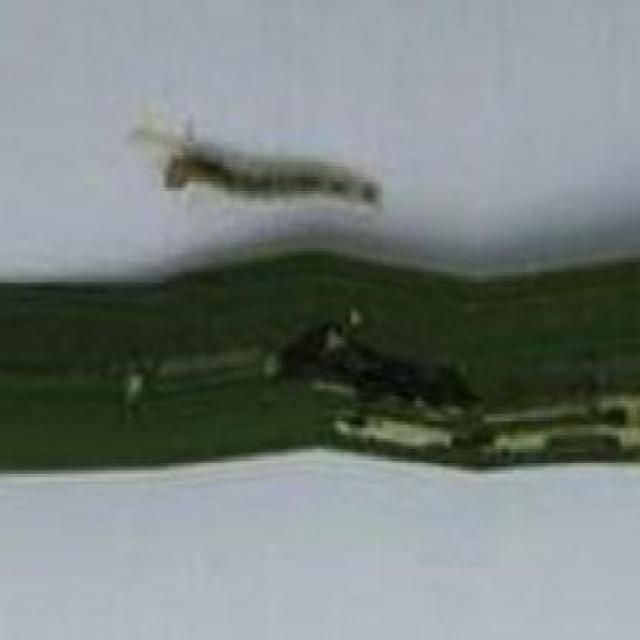leaf-folder: (134, 94, 398, 224)
